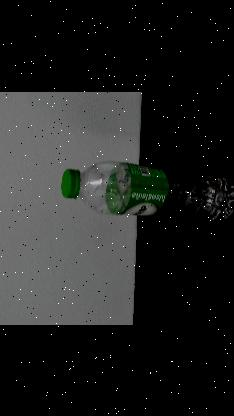Plastic Bottle: (54, 157, 234, 230)
